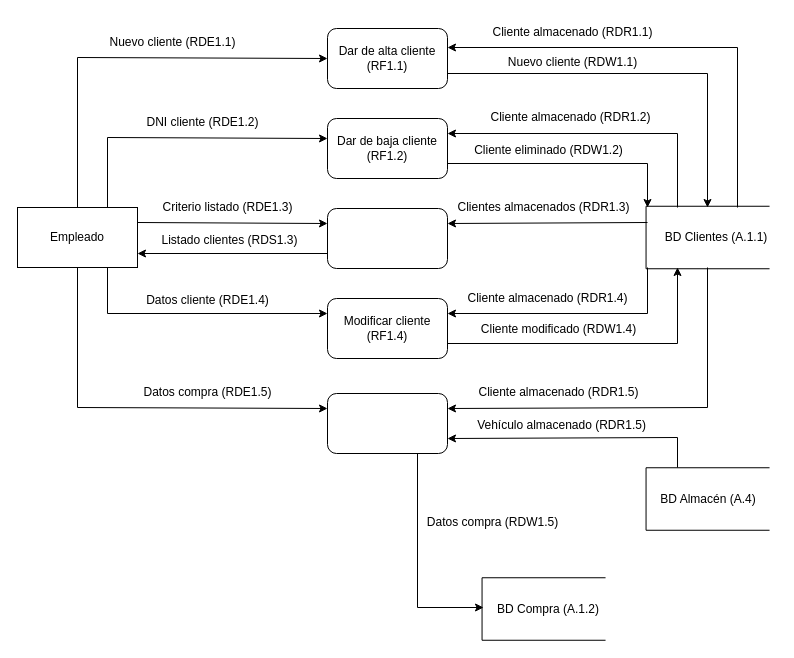
Image size: 794x658. Some labels were removed from this diagram. Here are the shapes that lost their labels. From the top down, the centre of each, then its label:
At point (387, 238): "Listar clientes (RF1.3)".
At point (387, 423): "Compra de vehículo (RF1.5)".
